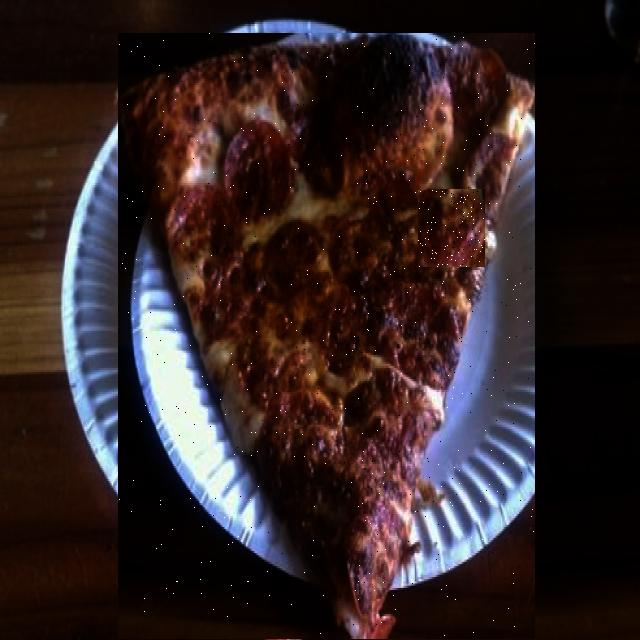Pepperoni: (365, 120, 427, 222), (418, 190, 485, 267)
Pizza: (118, 34, 535, 638)
